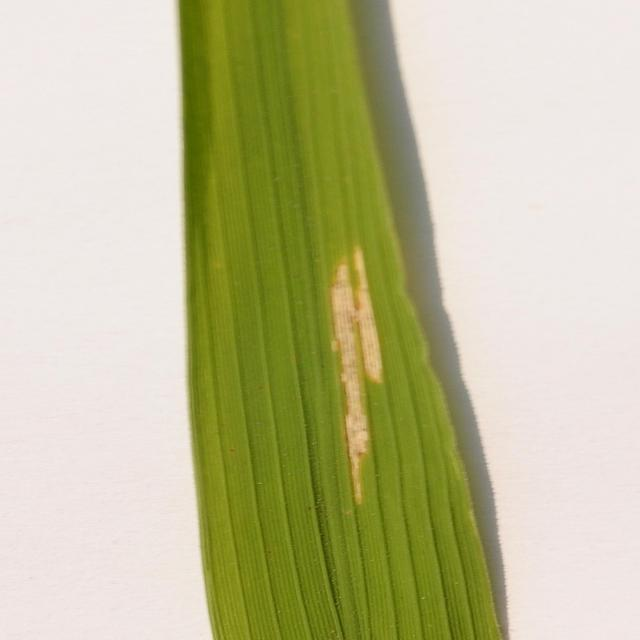Bacterial_Leaf_Blight: (286, 211, 426, 562)
